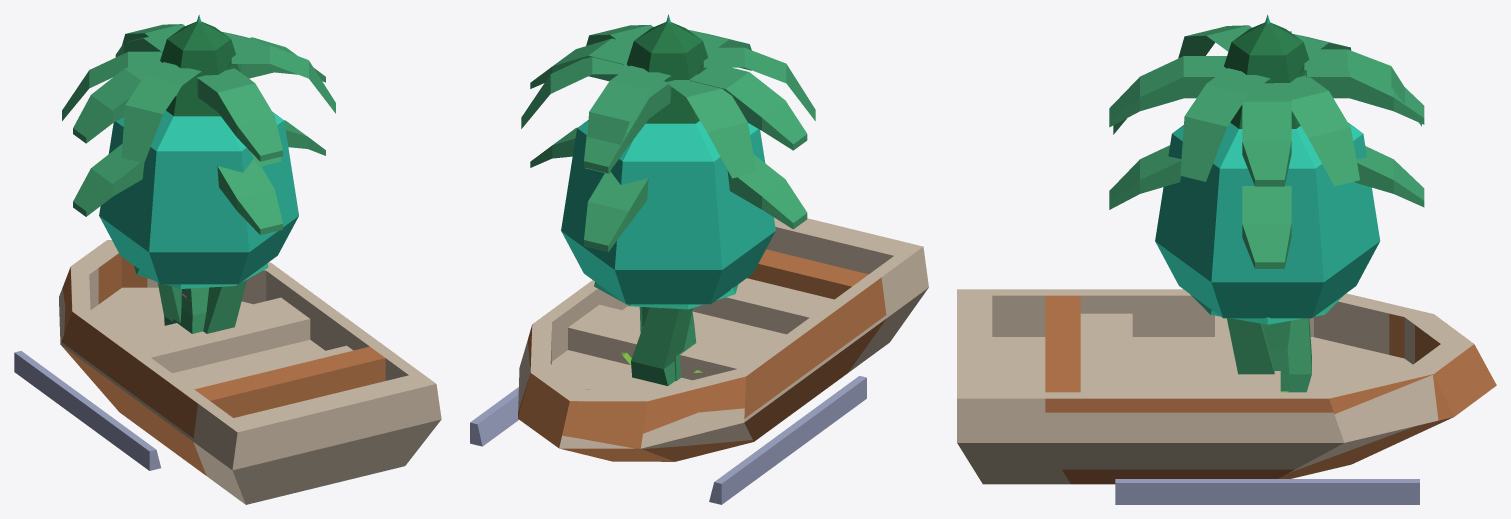
The model's file is props.glb.
3 views of the same model, side by side, from view 1: azimuth 30°, elevation 25°; view 2: azimuth 150°, elevation 25°; view 3: azimuth 270°, elevation 25° (orthographic). The views are drawn at different scales.
Visible parts, largest first — view 1: prop-boat-large, tree-oak, prop-boat-small, tree-palm-bend, tree-palm-tall, tree-palm-short, tree-simple, prop-barrier; view 2: prop-boat-large, tree-oak, prop-boat-small, tree-palm-bend, tree-palm-short, tree-palm-tall, prop-barrier, tree-simple, tree-pine; view 3: prop-boat-large, tree-oak, prop-boat-small, tree-palm-bend, tree-palm-tall, tree-palm-short, prop-barrier, tree-simple.
Boxes of the visible parts, x1=… form: prop-boat-large: x1=59, y1=240, x2=441, y2=504; tree-oak: x1=99, y1=110, x2=298, y2=288; prop-boat-small: x1=61, y1=251, x2=385, y2=475; tree-palm-bend: x1=62, y1=24, x2=335, y2=333; tree-palm-tall: x1=73, y1=36, x2=325, y2=333; tree-palm-short: x1=73, y1=120, x2=325, y2=325; tree-simple: x1=160, y1=21, x2=239, y2=116; prop-barrier: x1=14, y1=351, x2=160, y2=470; prop-boat-large: x1=518, y1=217, x2=928, y2=448; tree-oak: x1=561, y1=120, x2=775, y2=304; prop-boat-small: x1=518, y1=249, x2=886, y2=461; tree-palm-bend: x1=521, y1=25, x2=815, y2=332; tree-palm-short: x1=530, y1=127, x2=807, y2=385; tree-palm-tall: x1=530, y1=30, x2=807, y2=380; prop-barrier: x1=470, y1=376, x2=866, y2=504; tree-simple: x1=626, y1=22, x2=707, y2=123; tree-pine: x1=594, y1=14, x2=738, y2=309; prop-boat-large: x1=957, y1=289, x2=1473, y2=484; tree-oak: x1=1155, y1=122, x2=1380, y2=318; prop-boat-small: x1=1045, y1=293, x2=1496, y2=484; tree-palm-bend: x1=1113, y1=25, x2=1421, y2=374; tree-palm-tall: x1=1109, y1=31, x2=1424, y2=392; tree-palm-short: x1=1109, y1=145, x2=1424, y2=392; prop-barrier: x1=1115, y1=479, x2=1419, y2=504; tree-simple: x1=1224, y1=22, x2=1309, y2=128.
Size of the model in its own units: 1.03 by 1.55 by 1.77.
Materials: 1 (1 with a texture image).
